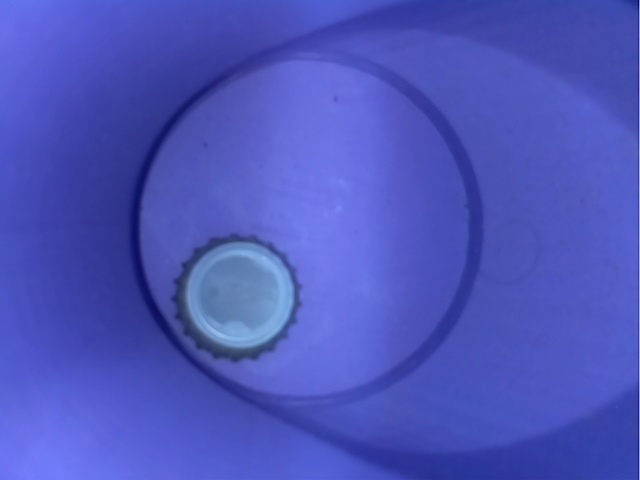capsule: (166, 223, 312, 372)
